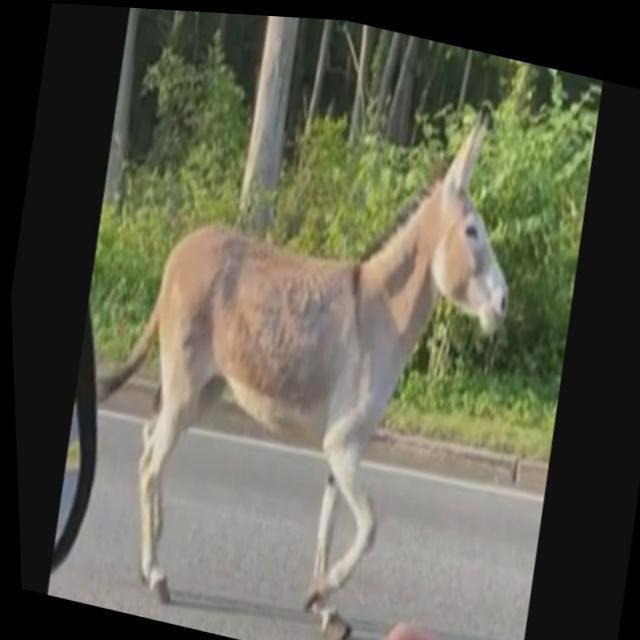Donkey: (90, 35, 550, 640)
